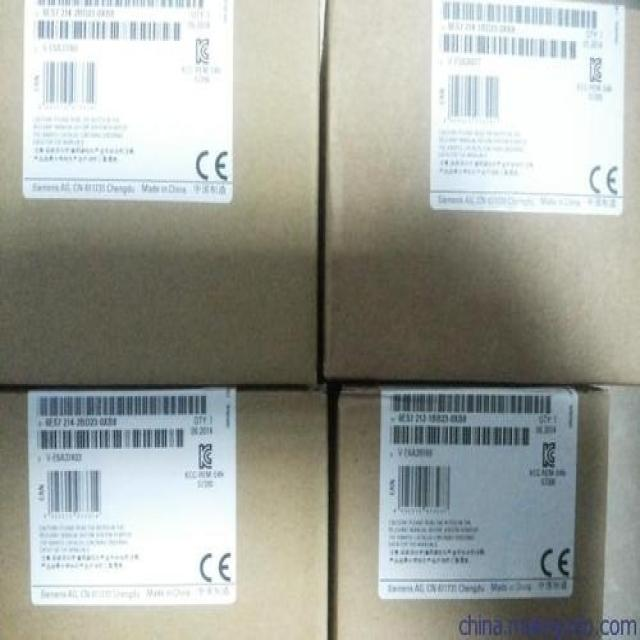box: (0, 0, 321, 389), (320, 0, 640, 384), (0, 387, 329, 640), (329, 382, 608, 640)
